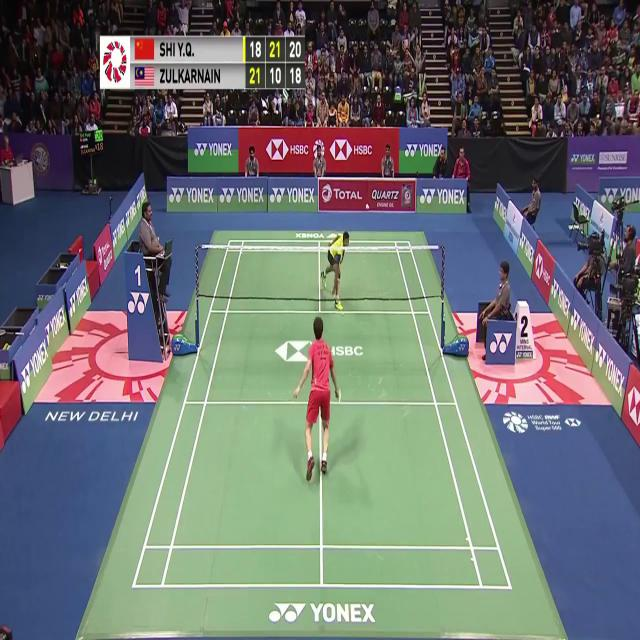Shuttlecock: (364, 201, 370, 213)
